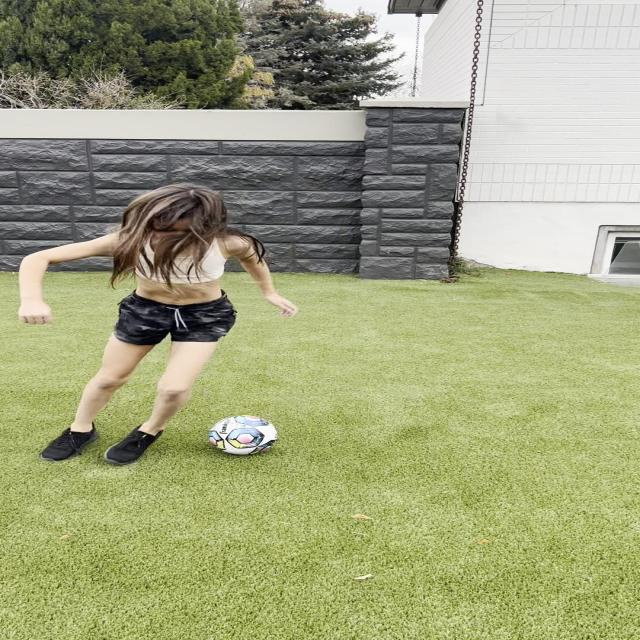Soccer Ball: (208, 414, 277, 454)
